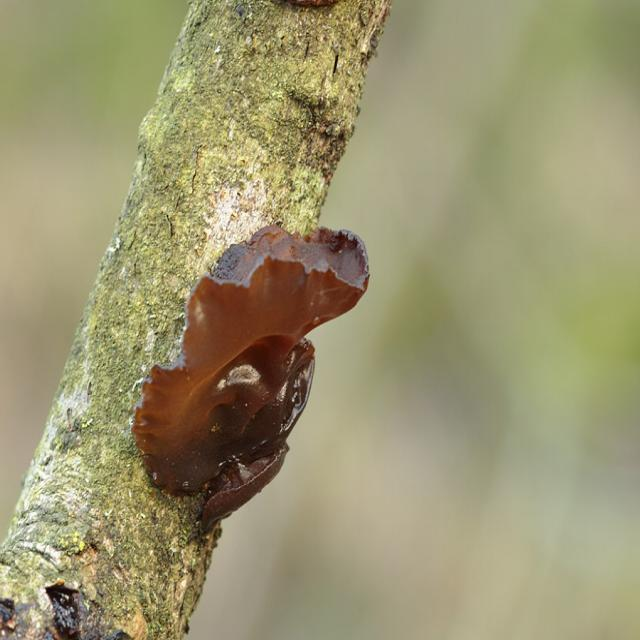Auricularia auricula: (140, 225, 370, 532)
